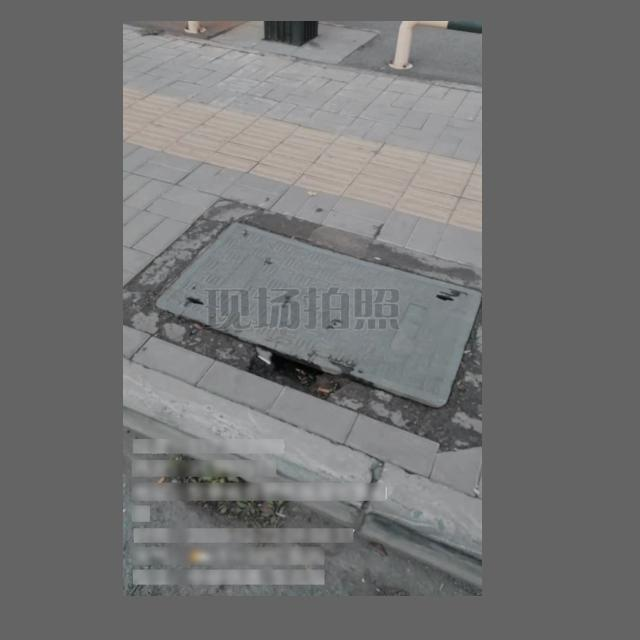circle: (127, 197, 482, 427)
